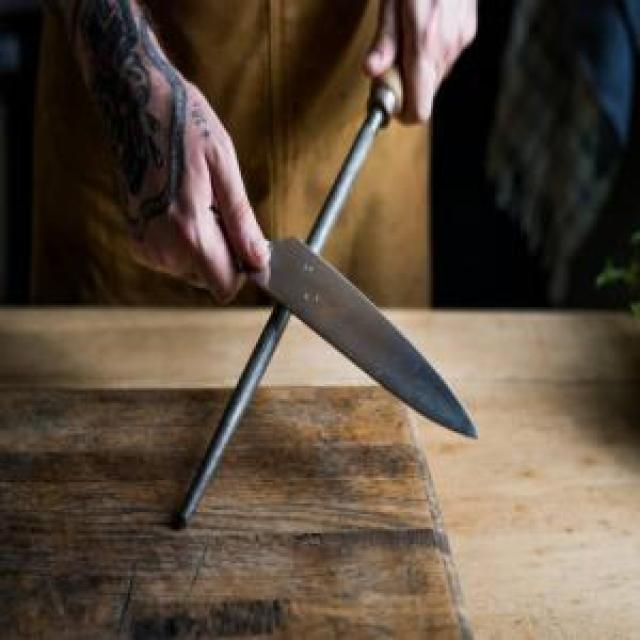knife: (202, 166, 488, 448)
